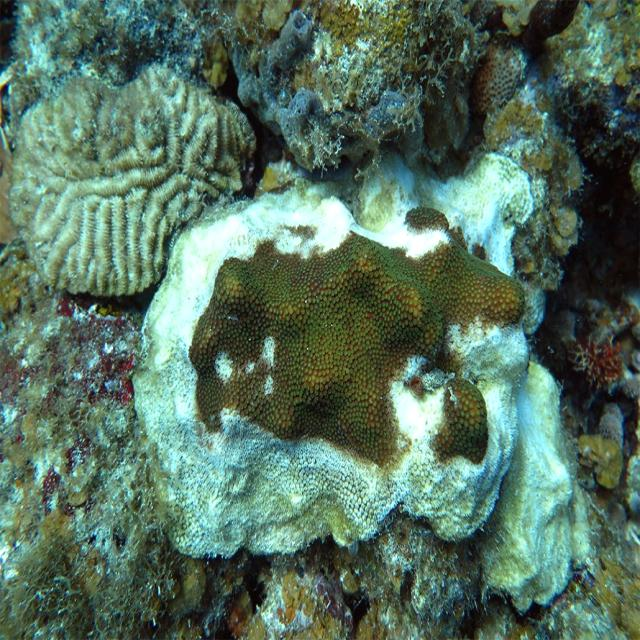Coral: (132, 148, 530, 558), (9, 61, 257, 294), (479, 352, 593, 615)
